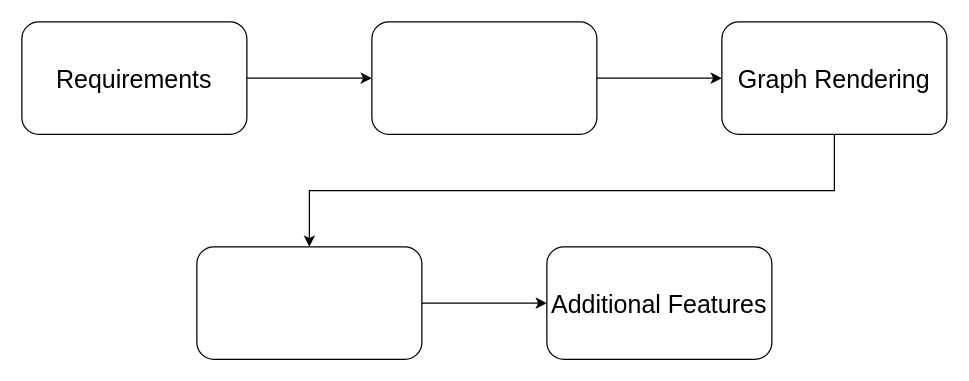
This 969x381 diagram has some shape labels left out. Here are the shapes that lost their labels. From the top down, the centre of each, then its label:
[484,77]: Learning & Basic Setup
[309,302]: Model Parsing
